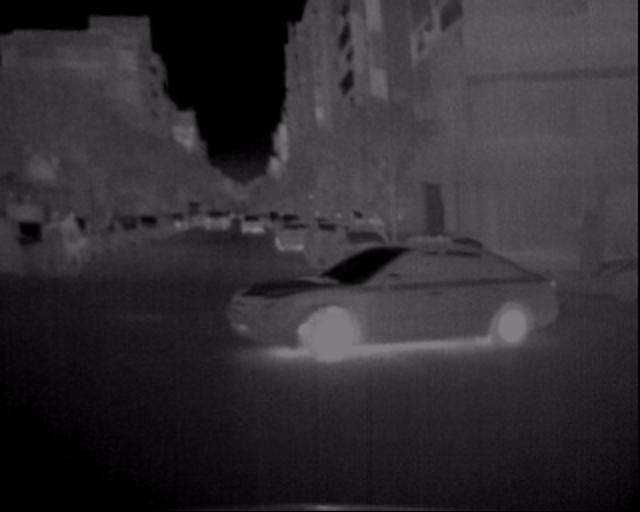person: (51, 205, 99, 282), (33, 205, 70, 282)
